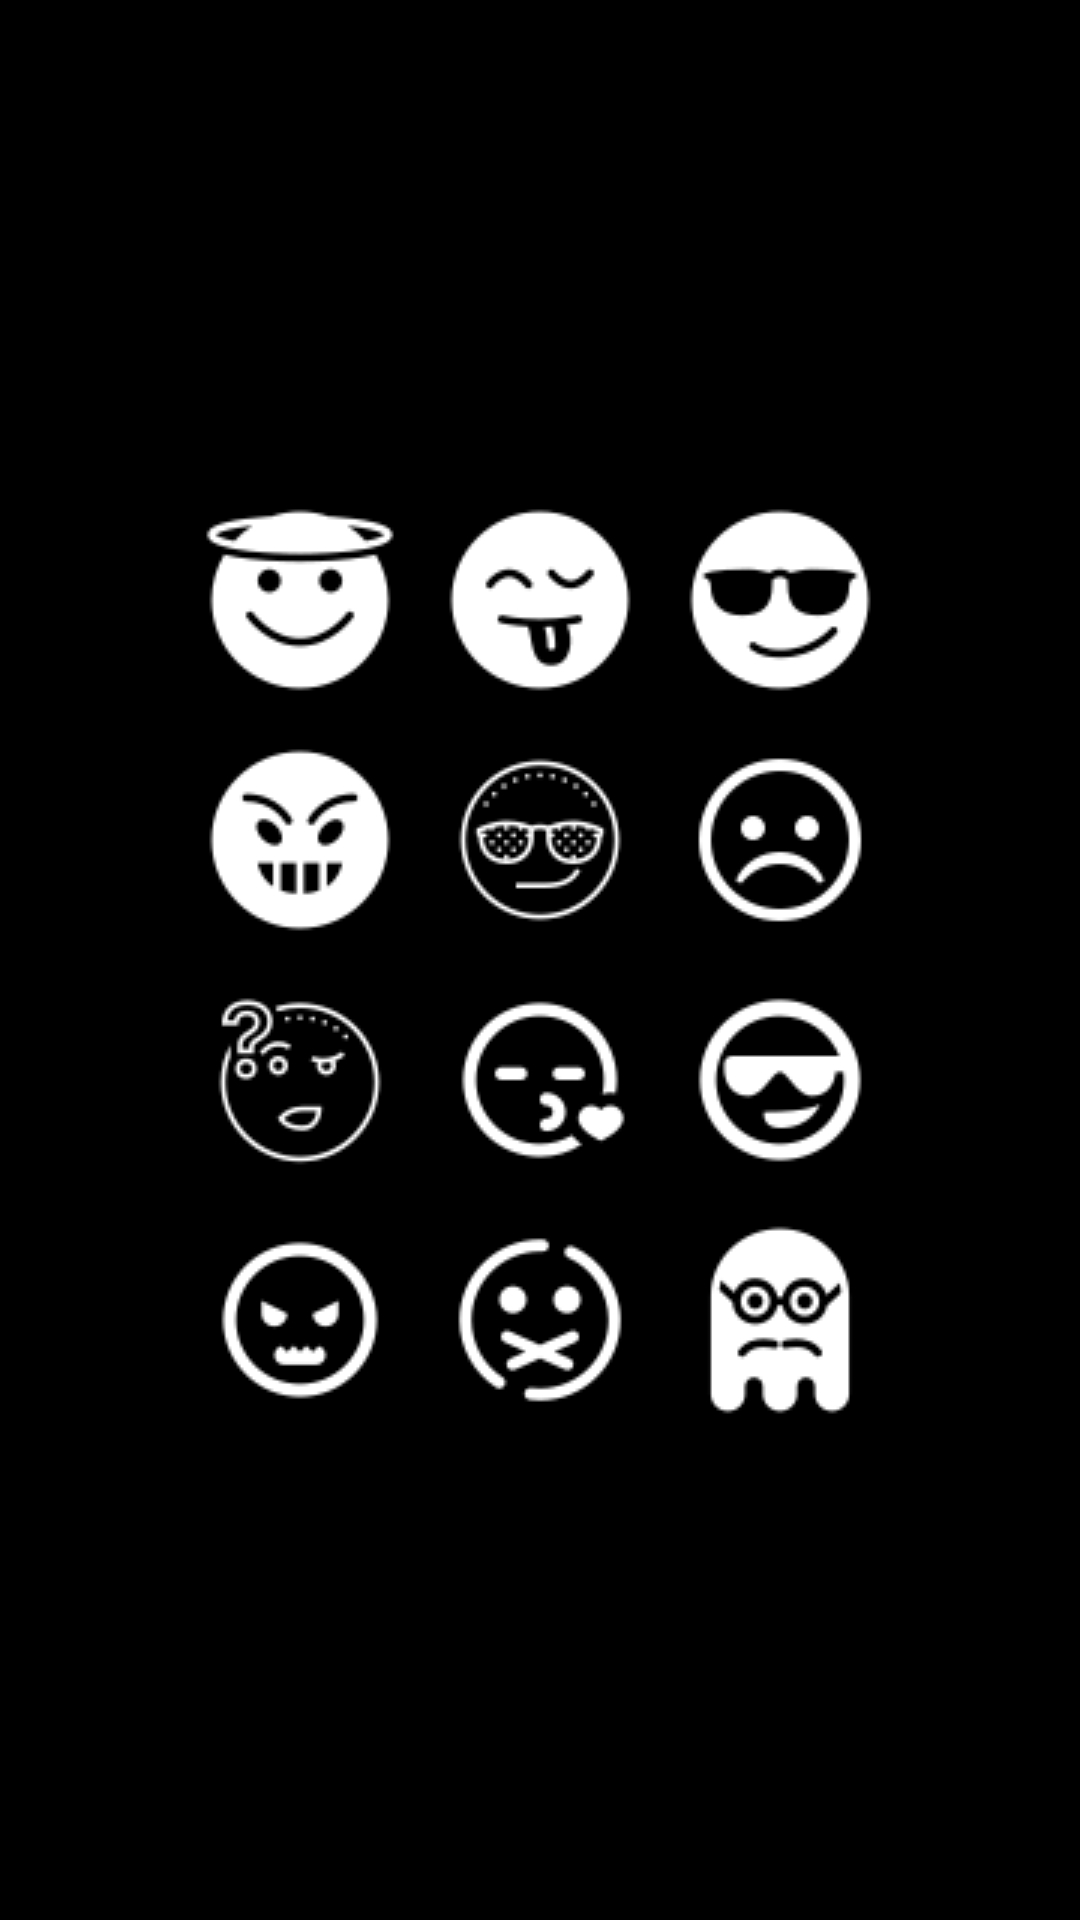

Where icons sit on this 1080w x 1920h app screen, as [left=x1, top=y1, right=x2, bottom=y2]:
Emoticon 1: [left=206, top=509, right=394, bottom=691]
Emoticon 10: [left=221, top=1241, right=379, bottom=1399]
Emoticon 11: [left=458, top=1238, right=622, bottom=1402]
Emoticon 2: [left=449, top=509, right=631, bottom=691]
Emoticon 3: [left=689, top=509, right=871, bottom=691]
Emoticon 4: [left=209, top=749, right=391, bottom=931]
Emoticon 5: [left=458, top=758, right=622, bottom=922]
Emoticon 6: [left=698, top=758, right=862, bottom=922]
Emoticon 7: [left=218, top=998, right=382, bottom=1164]
Emoticon 8: [left=461, top=1001, right=625, bottom=1159]
Emoticon 9: [left=698, top=998, right=862, bottom=1162]
